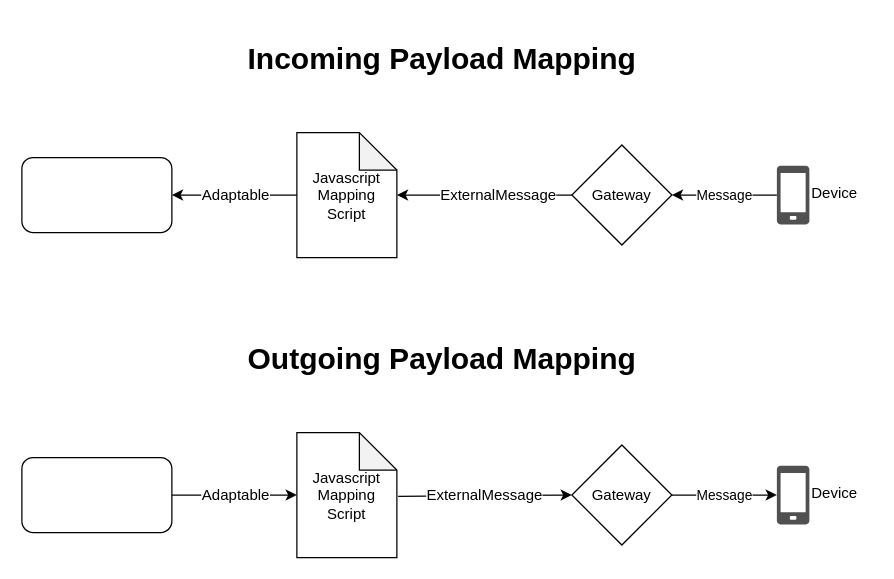
Image size: 894x579. Some labels were removed from this diagram. The shapes that lost their labels are listed below. From the top down, each one's centre as x and y in pixels, then its label:
At point (96, 194): "further processing".
At point (96, 494): "internal processing".
